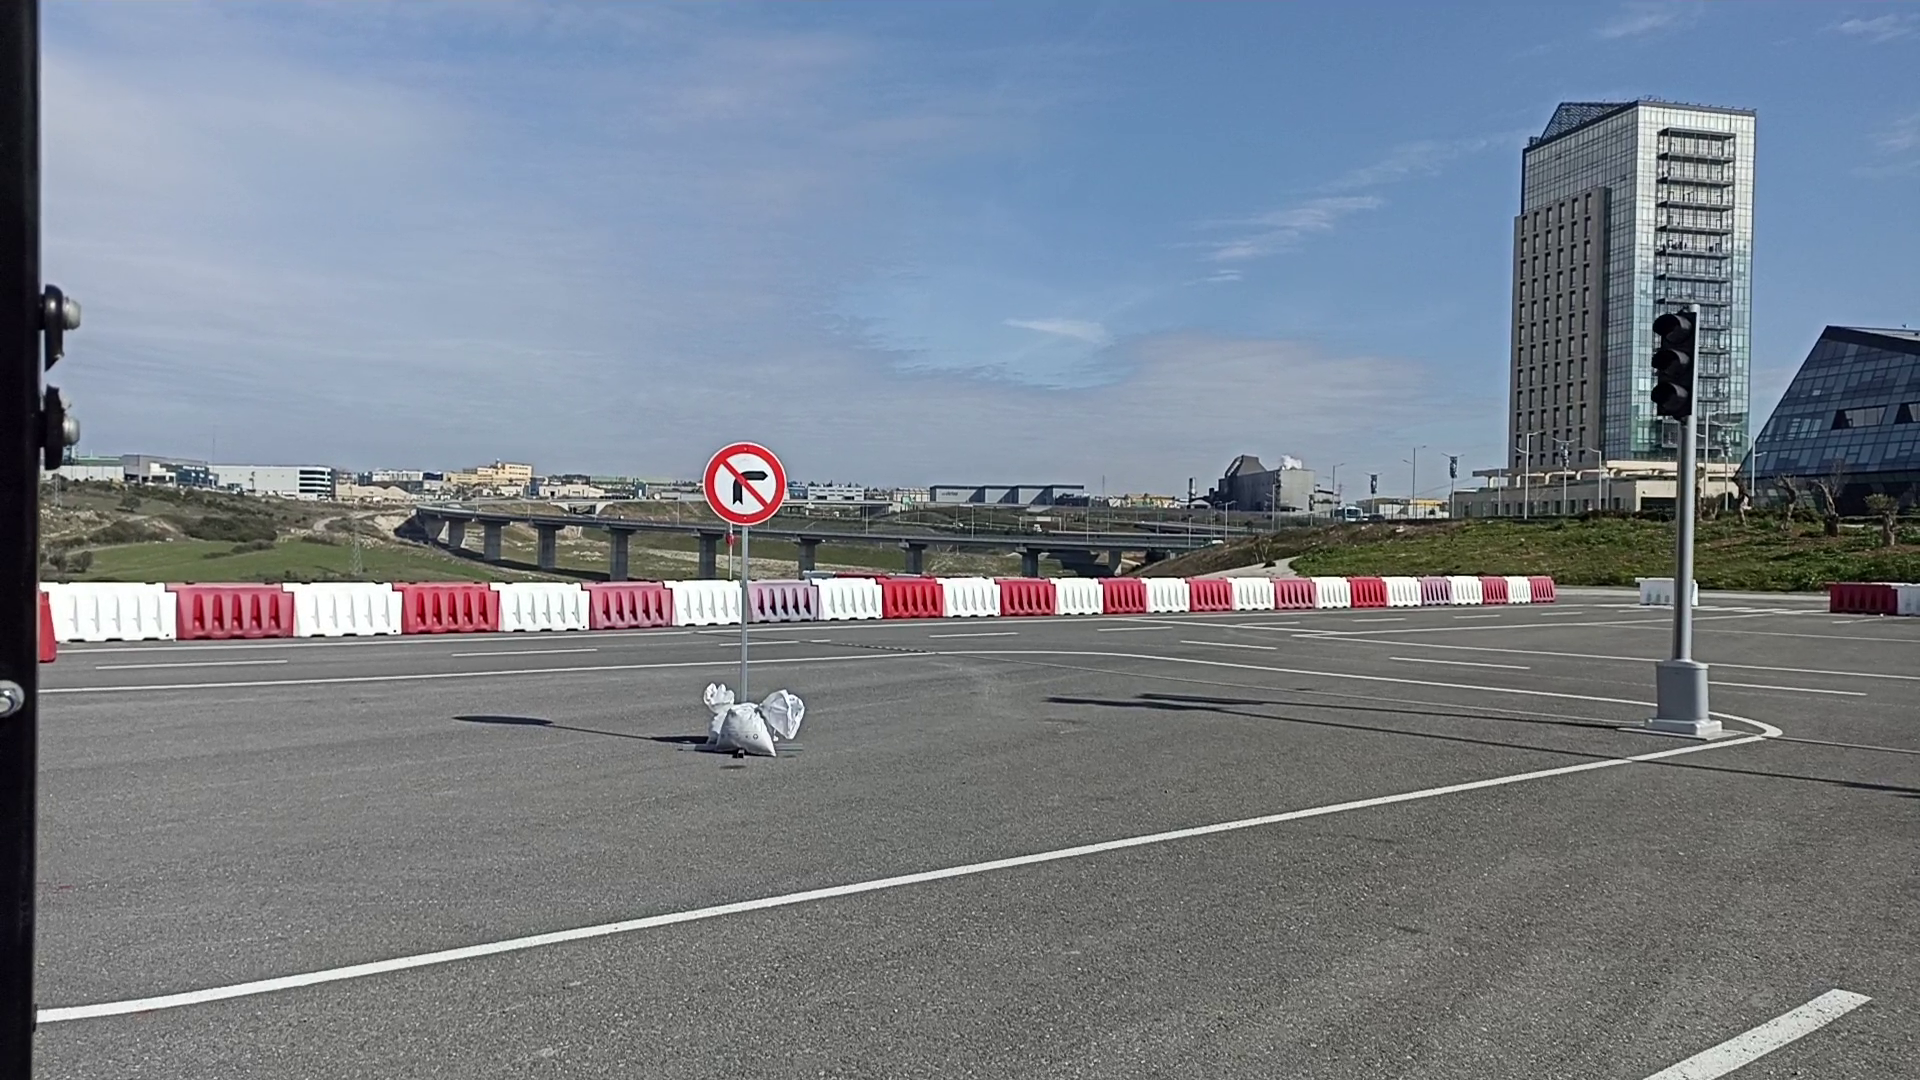noleftturn: (702, 440, 790, 529)
trafficlight: (1647, 301, 1697, 419)
